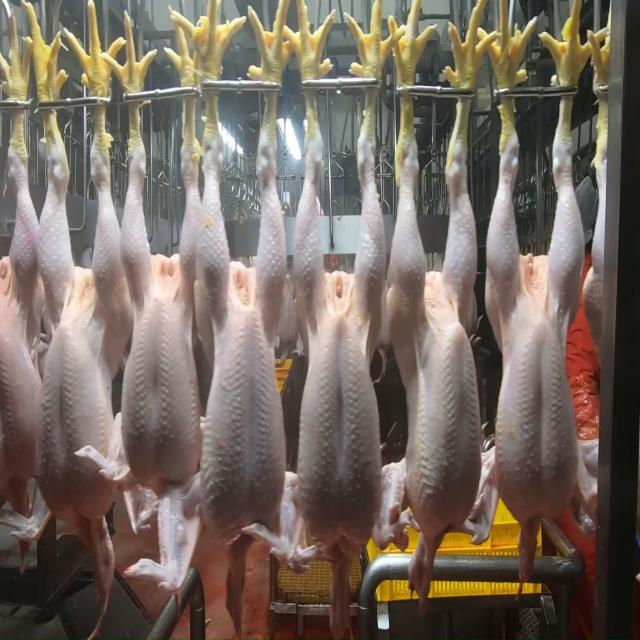chicken: (386, 124, 490, 532), (493, 105, 582, 568), (296, 127, 382, 551), (204, 138, 287, 540), (36, 130, 120, 522), (126, 136, 212, 483), (0, 190, 34, 466)
